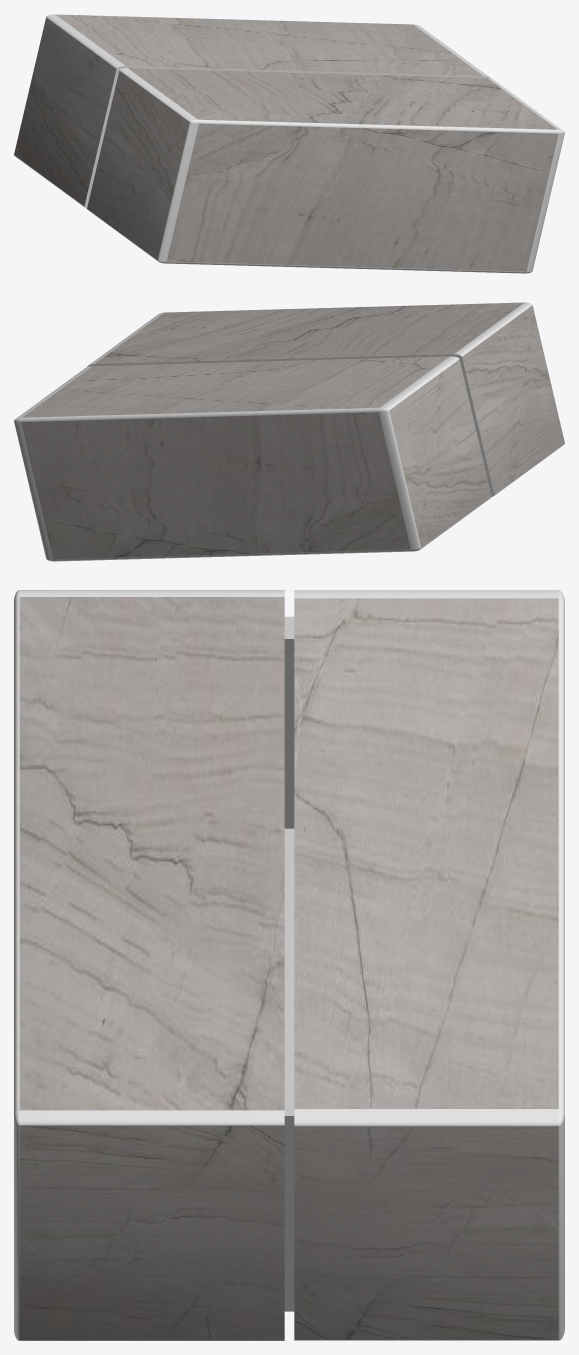
Rendered from TwoSideOpenBox.gltf.
The picture shows the model from 3 angles, top to bottom: view 1: azimuth 30°, elevation 25°; view 2: azimuth 150°, elevation 25°; view 3: azimuth 270°, elevation 25°; orthographic projection. The views are drawn at different scales.
Parts seen in each view (by area): view 1: Cube.001, Cube.002; view 2: Cube.002, Cube.001; view 3: Cube.001, Cube.002, Cube.
Boxes of the visible parts, box(x1,y1,x2,y2) form: Cube.001: box(87, 68, 564, 273); Cube.002: box(14, 14, 490, 208); Cube.002: box(14, 356, 491, 561); Cube.001: box(87, 302, 564, 496); Cube.001: box(14, 590, 284, 1340); Cube.002: box(294, 590, 564, 1340); Cube: box(284, 616, 294, 1311).
Bounding box in the file's own units: 6.42 × 3.53 × 4.
